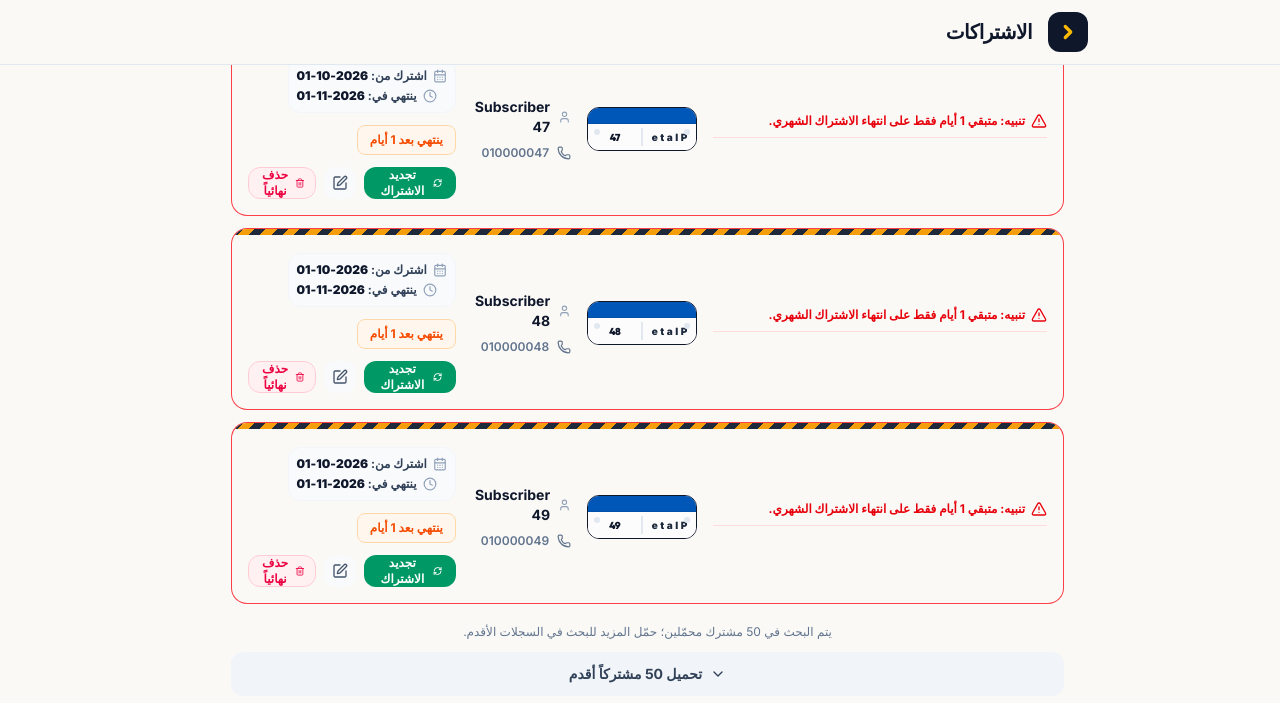
Scenario: SubscribersView pagination and accessible names › loads older subscribers beyond the first 50 and includes them in search
This screenshot has width=1280, height=703.
(page scrolled)
Click the button "تحميل 50 مشتركاً أقدم": (648, 674) [231, 652, 1064, 696]
(page scrolled)
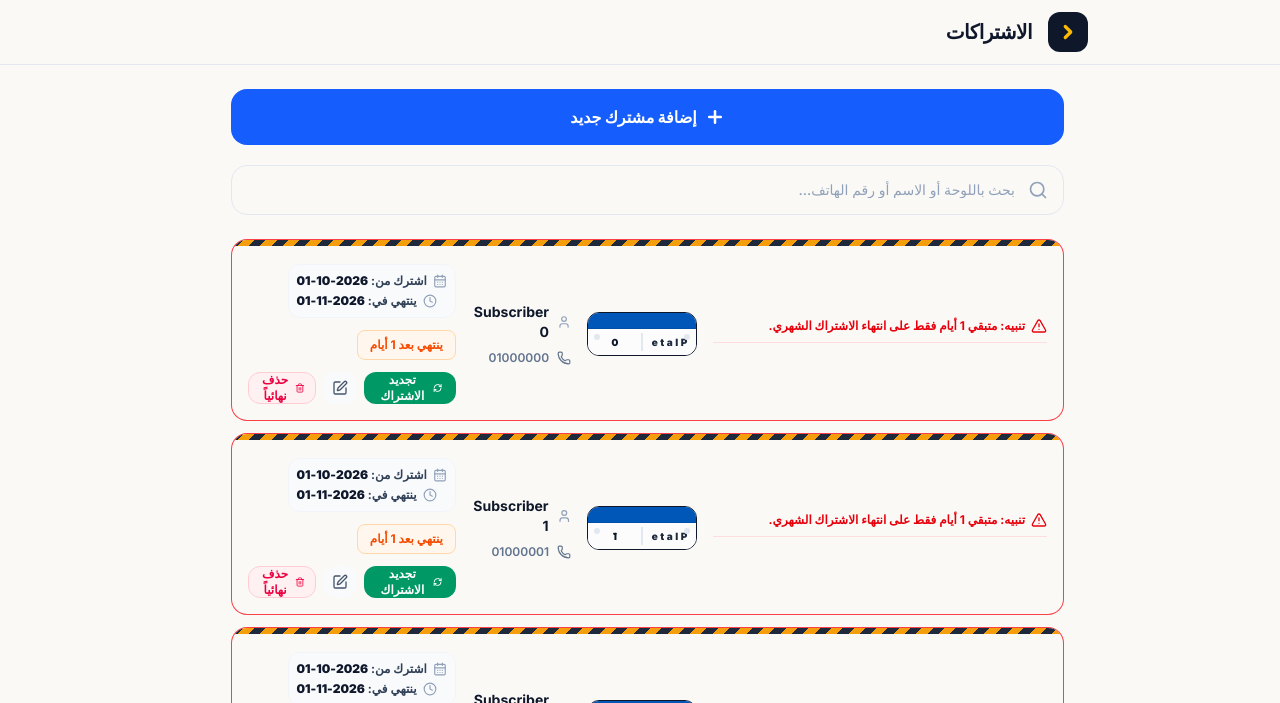
In the field with placeholder "بحث باللوحة أو الاسم أو رقم الهاتف...": (648, 190) [231, 165, 1064, 215], type "Older Subscriber Search Target"
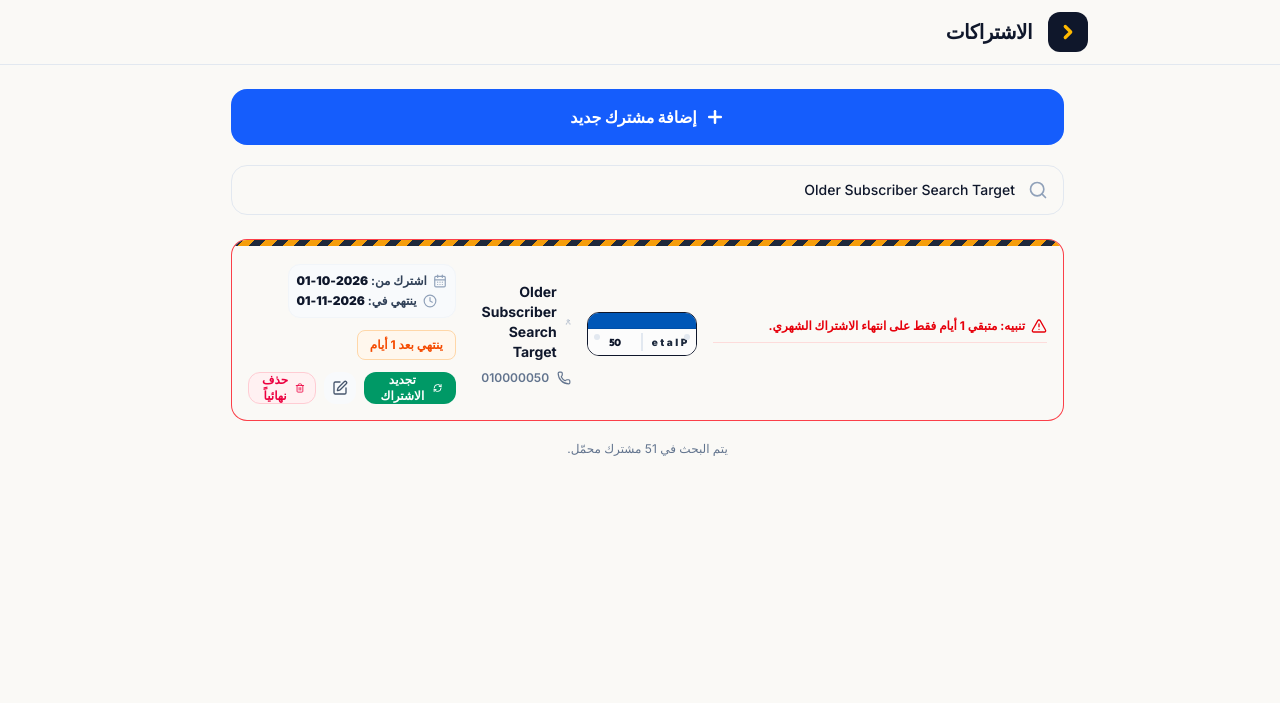
Expected: the button "تحميل 50 مشتركاً أقدم" is not shown
Result: the text "Older Subscriber Search Target" is shown at [472, 282, 557, 362]
